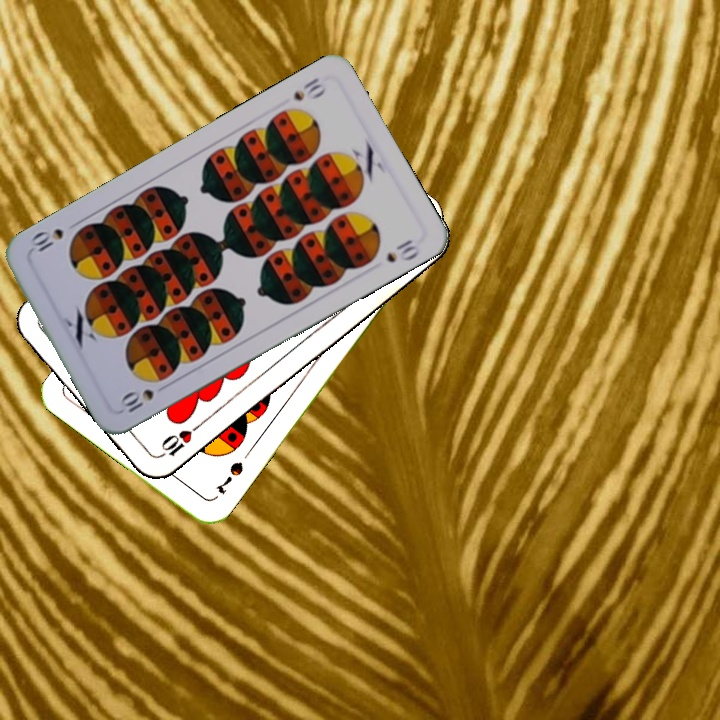H10: (153, 419, 204, 461)
S10: (115, 385, 157, 416), (289, 73, 329, 104)
S7: (212, 457, 246, 497)
